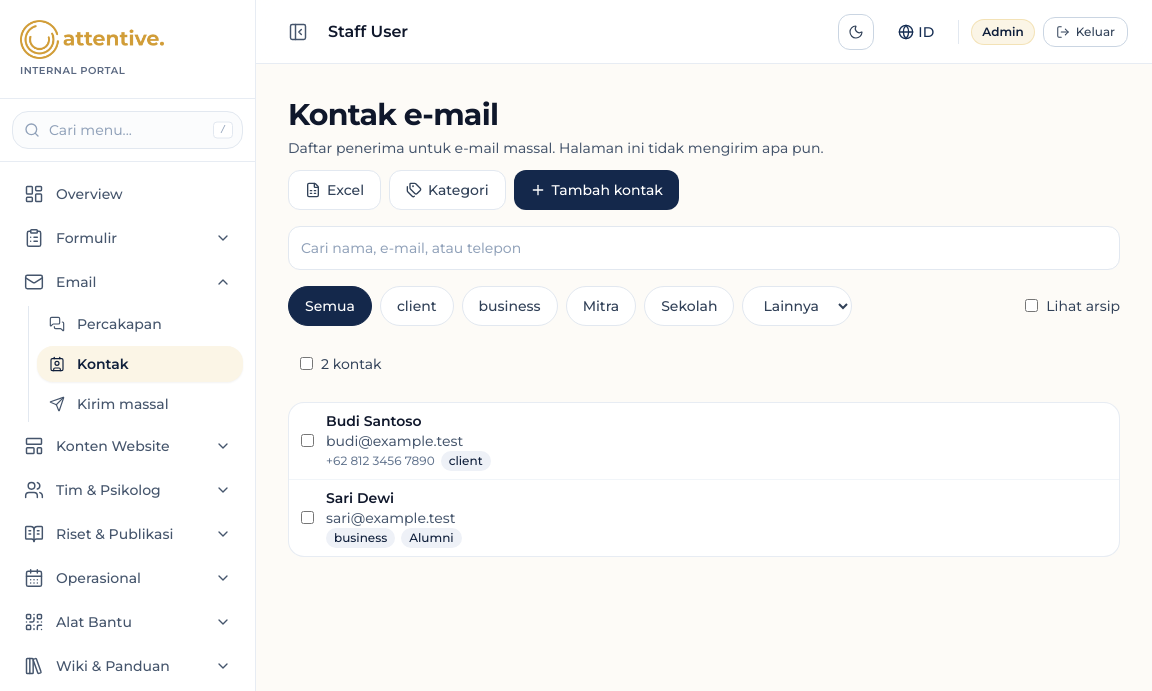
Test: e-mail contacts page › adds a contact: client is preselected and the name is suggested from the address
Click the button "Tambah kontak" at (596, 190), box left=514, top=170, right=679, bottom=210
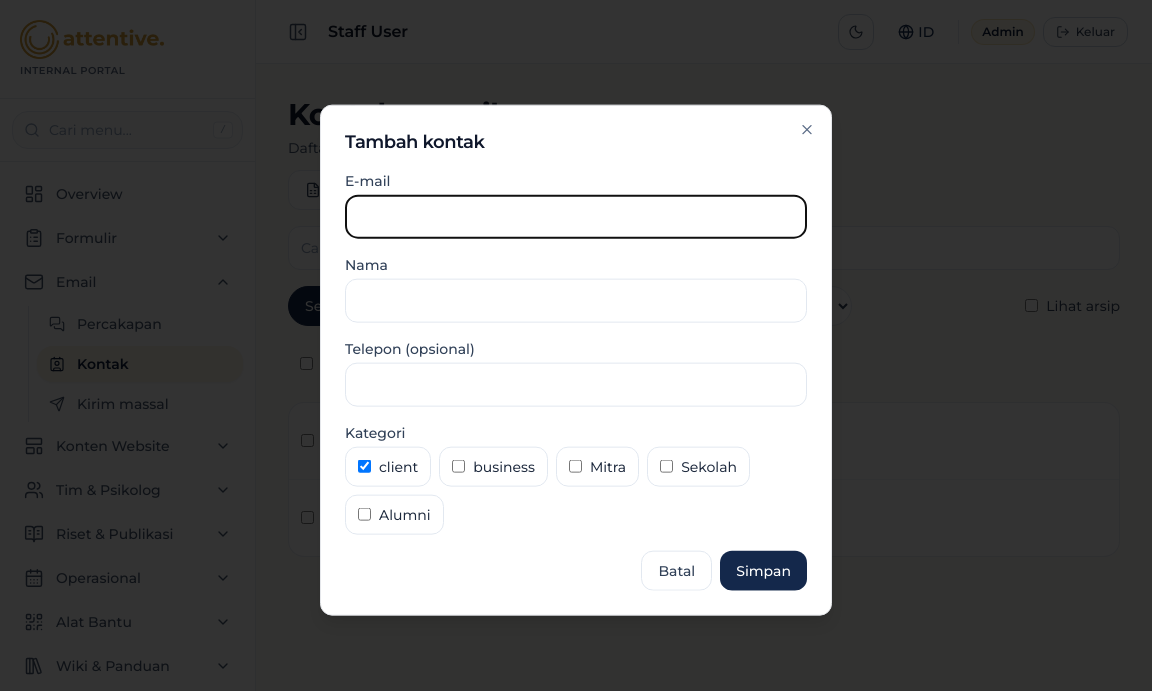
Expected: the checkbox labelled "client" is checked, left=358, top=460, right=371, bottom=473
Type "andi.wijaya@example.test" into the field labelled "E-mail" at (576, 216), box left=345, top=194, right=807, bottom=238
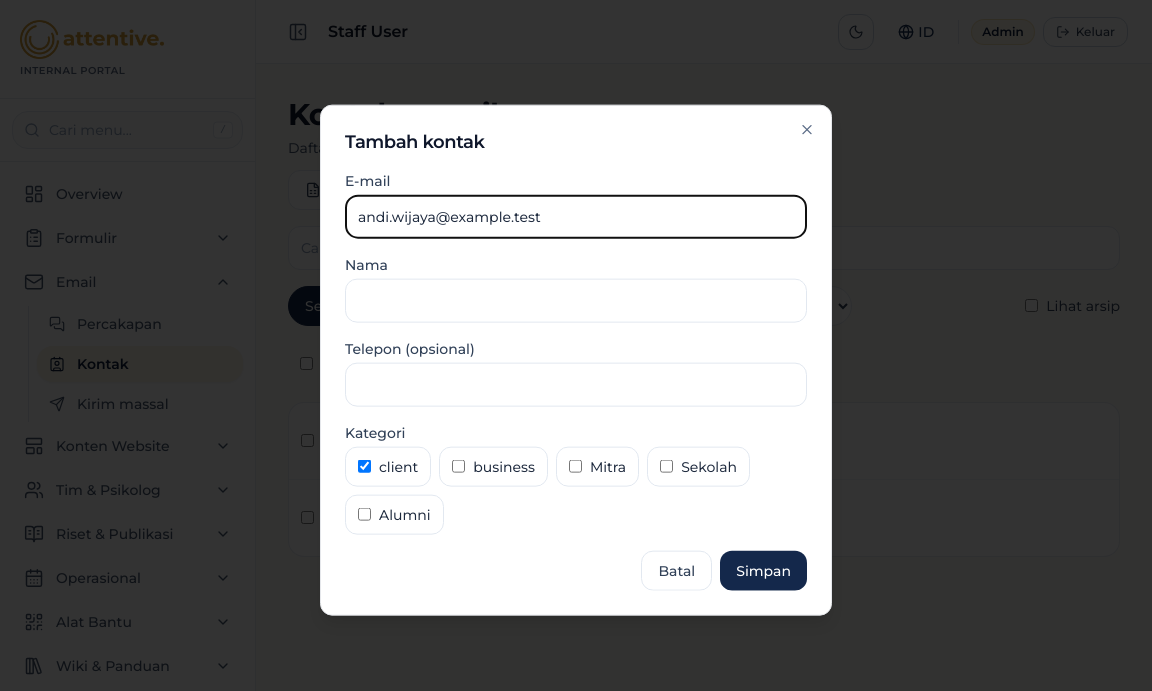
Press Tab
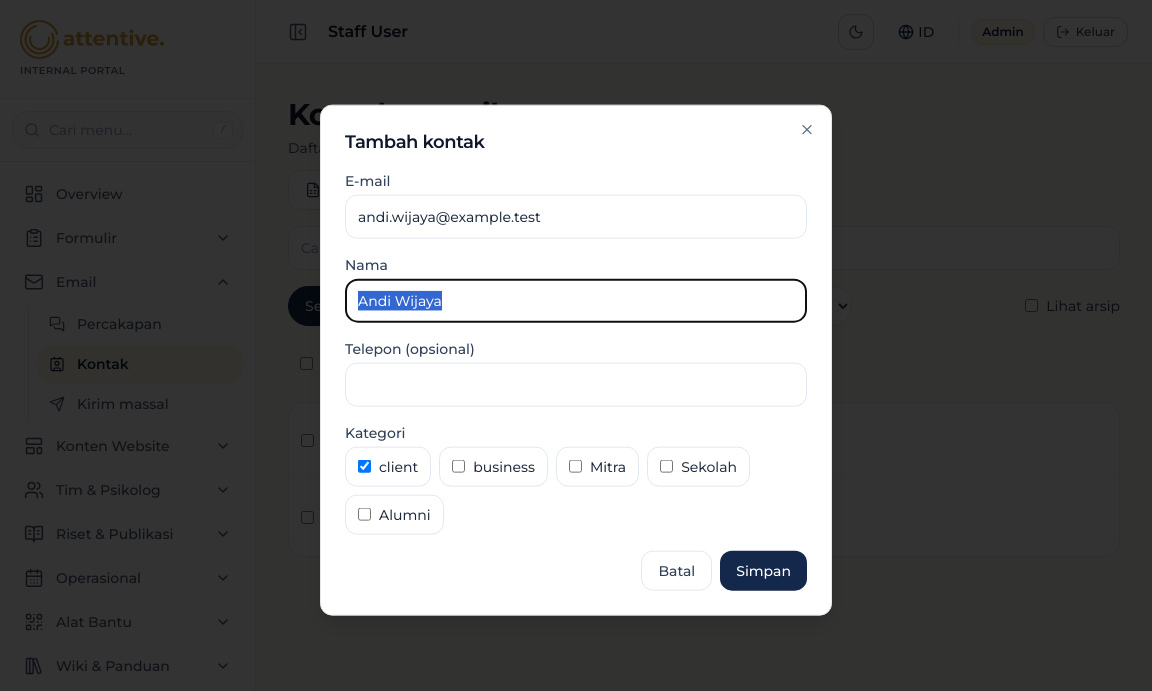
Expected: the field labelled "Nama" holds "Andi Wijaya", left=345, top=278, right=807, bottom=322
Click the checkbox labelled "business" at (459, 466), box left=452, top=460, right=465, bottom=473
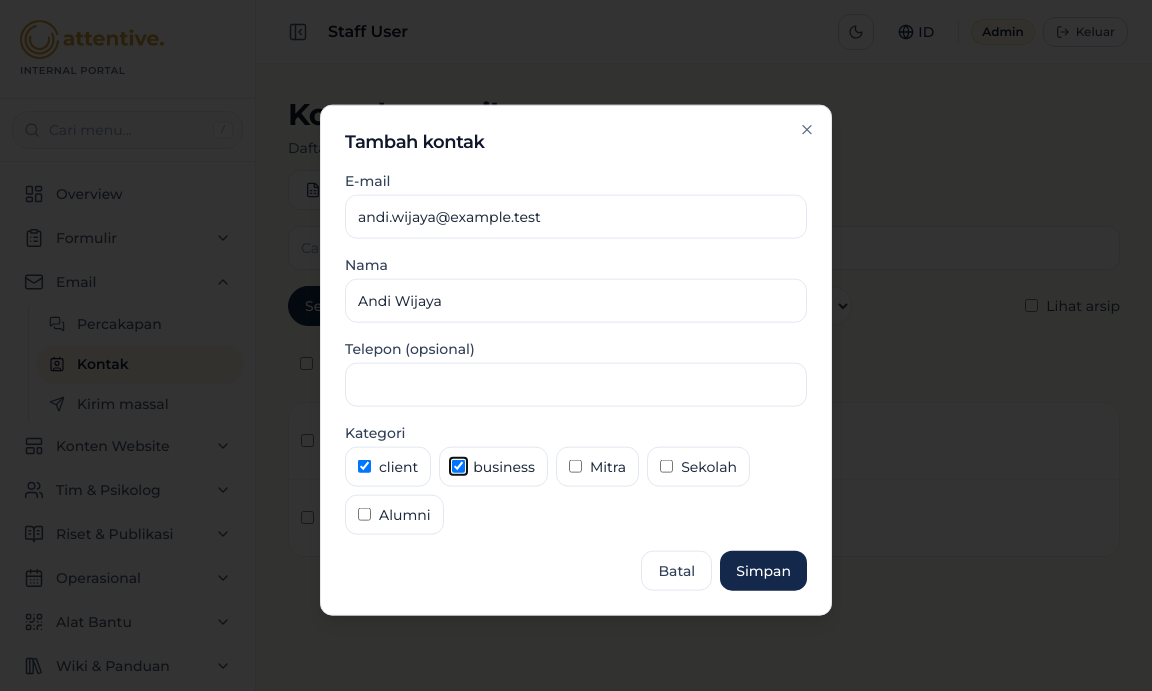
Click the button "Simpan" at (764, 570), box left=720, top=550, right=807, bottom=590
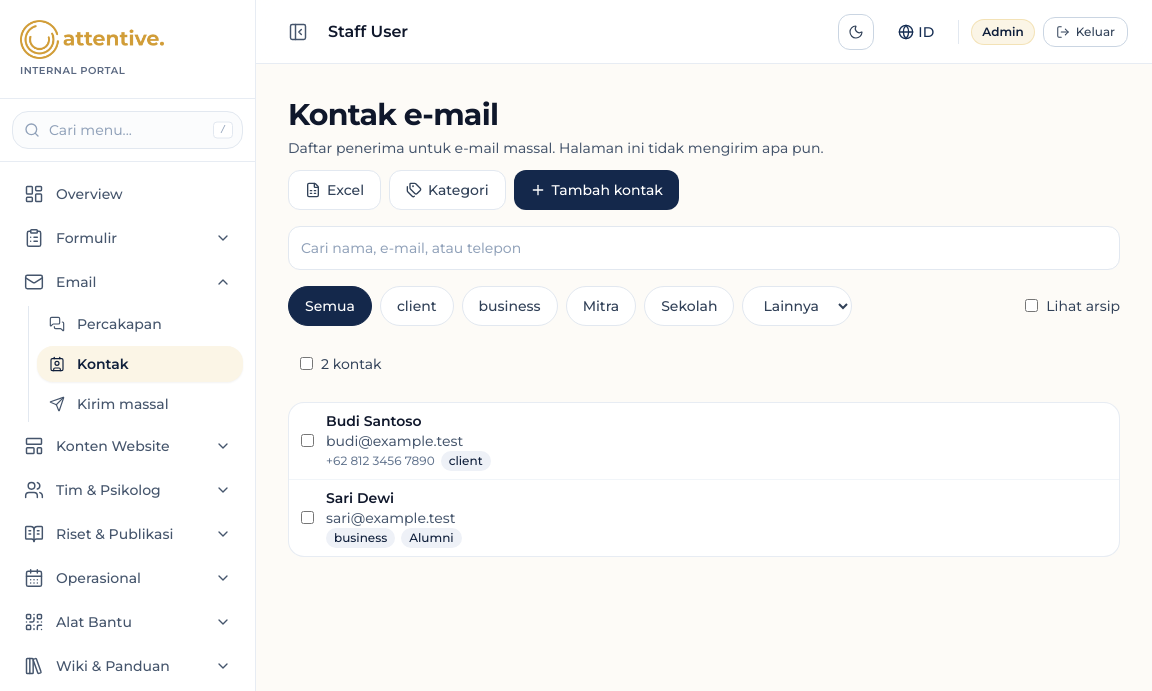
Expected: the dialog is gone
